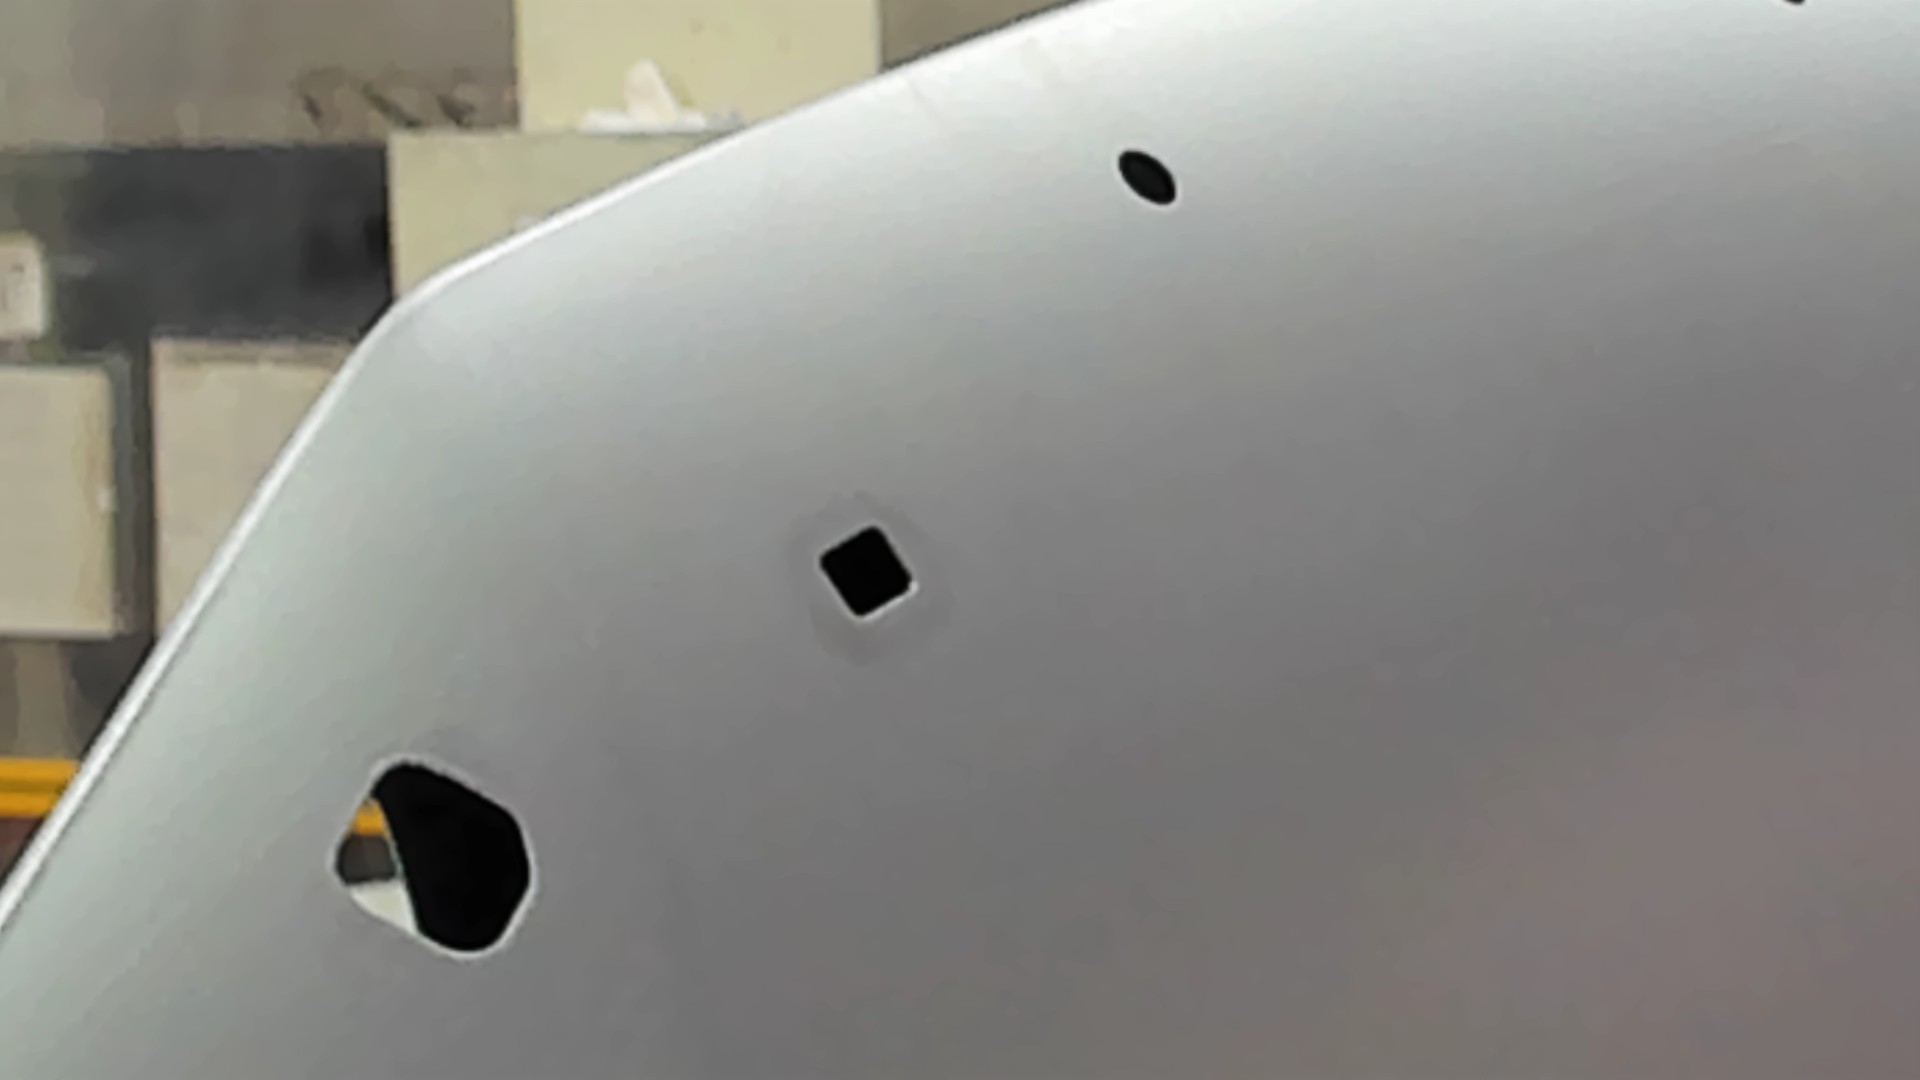chico: (1114, 144, 1182, 214)
grande: (320, 752, 543, 964)
mediano: (810, 522, 920, 629)
